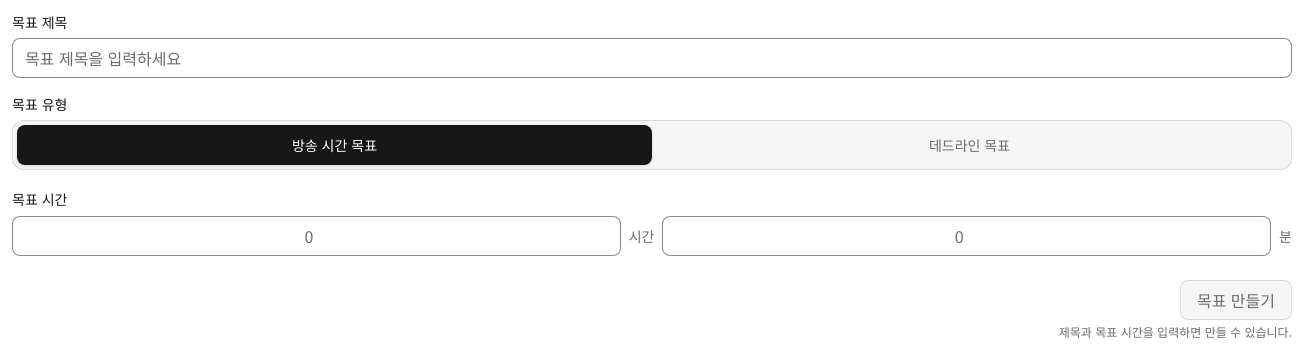
GoalForm › 제목만 입력하면 버튼이 비활성이고 이유가 연결되며, 시간을 넣으면 활성이 된다
Expected: the button "목표 만들기" is disabled, [1180,280,1292,320]
In the field labelled "목표 제목": coordinates (652, 58) [12,38,1292,78], type "10시간 돌파"
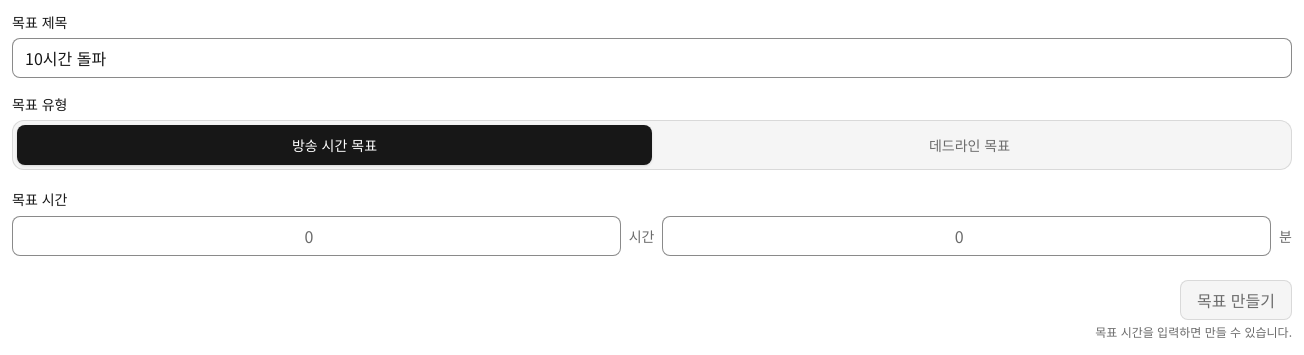
Expected: the button "목표 만들기" is disabled, [1180,280,1292,320]
In the number field named "분": coordinates (967, 236) [662,216,1271,256], type "30"
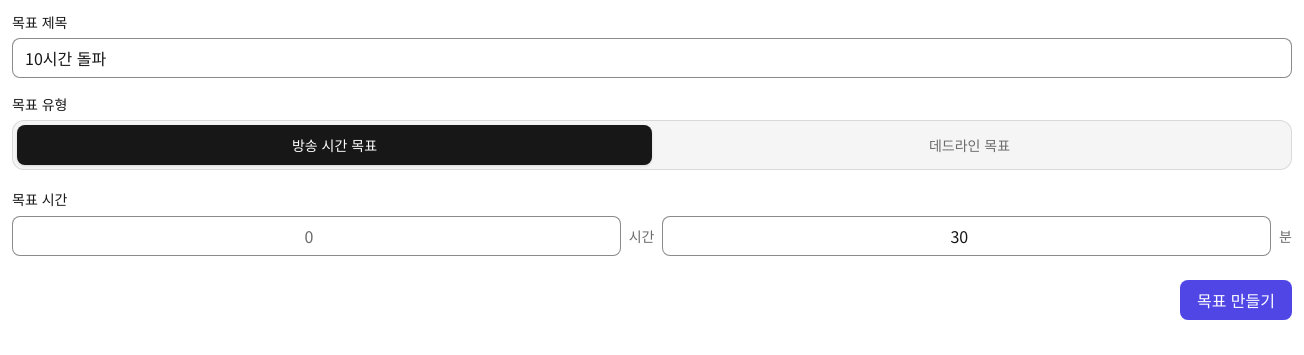
Now the button "목표 만들기" is enabled, box [1180,280,1292,320]
Now the text "만들 수 있습니다" is gone
